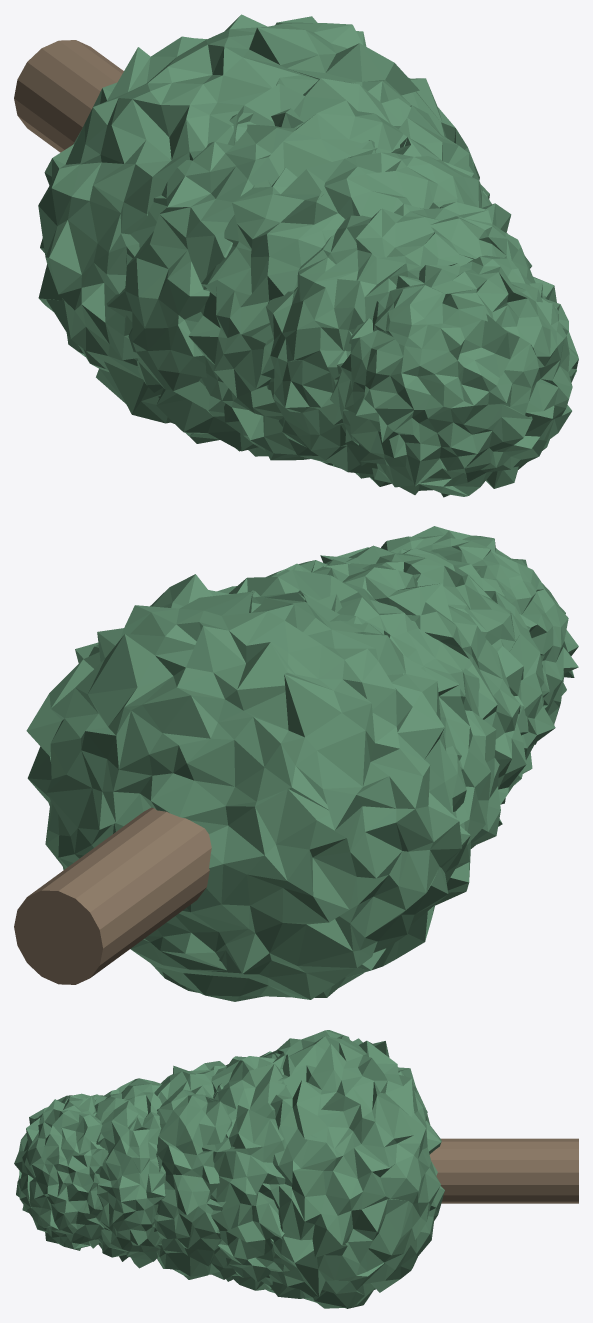
Rendered from Bana_Ancient_Canopy_Tree.glb.
3 renders of one model, top to bottom at view 1: azimuth 30°, elevation 25°; view 2: azimuth 150°, elevation 25°; view 3: azimuth 270°, elevation 25°, orthographic. The views are drawn at different scales.
Parts seen in each view (by area): view 1: world; view 2: world; view 3: world.
Boxes of the visible parts, box(x1,y1,x2,y2) form: world: box(14, 14, 578, 497); world: box(14, 526, 578, 1001); world: box(14, 1030, 578, 1308).
Size of the model in its own units: 6.58 by 6.03 by 12.39.
